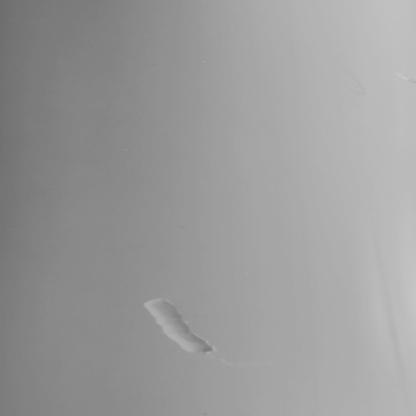sunshang: (142, 295, 216, 355)
